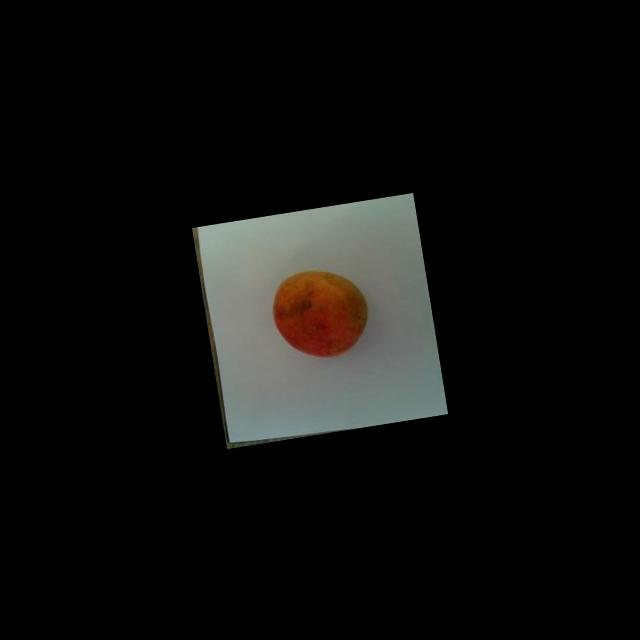Mango: (266, 262, 374, 365)
